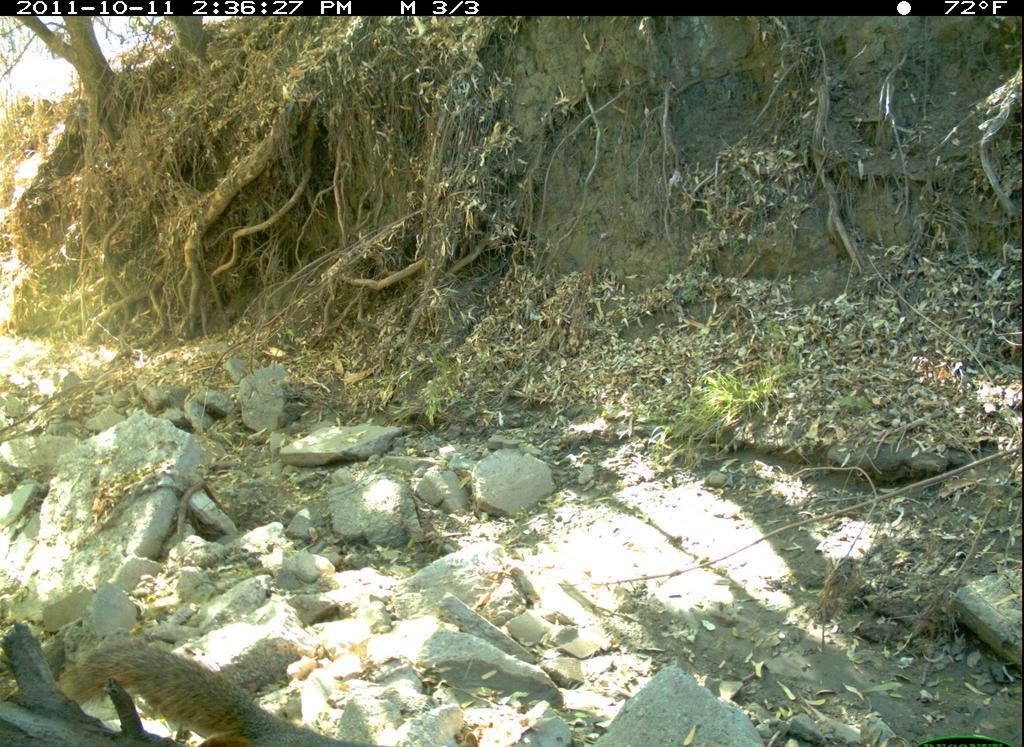squirrel: (59, 624, 411, 747)
